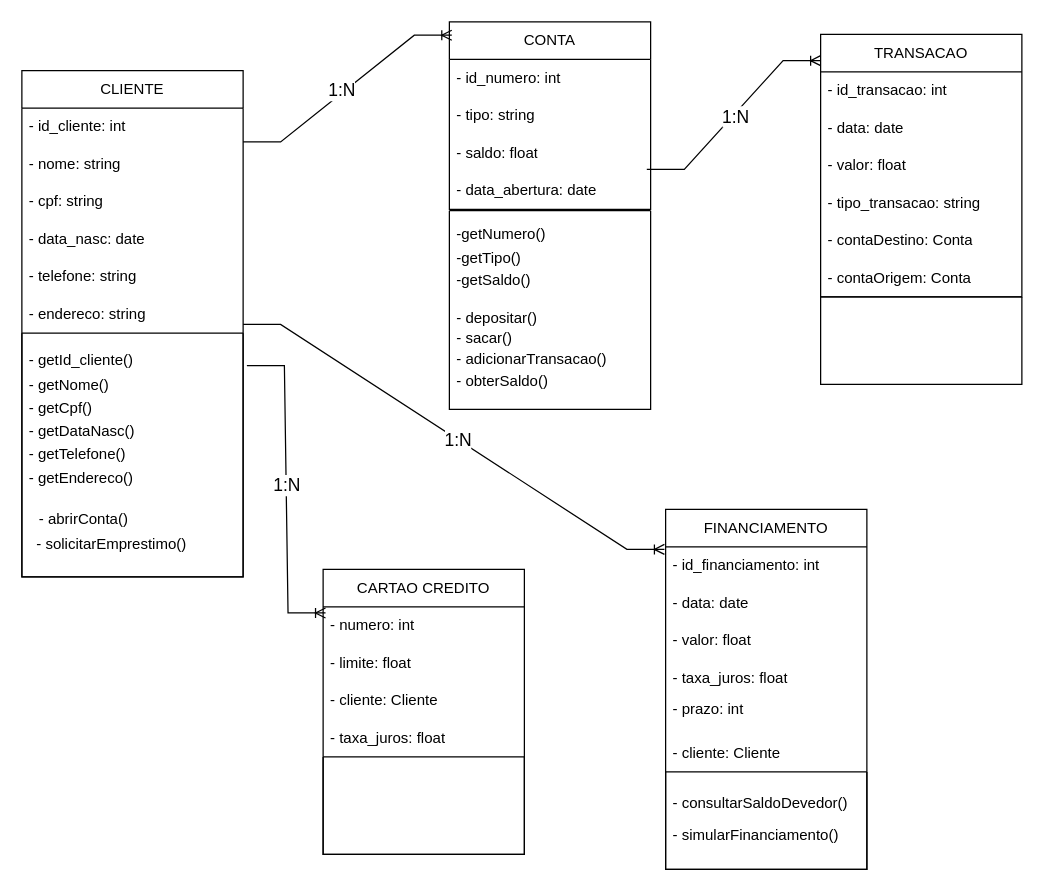
The diagram is 1044 pixels wide and 891 high, and some of its shapes have lost their labels. Here are the shapes that lost their labels. From the top down, the centre of each, then its label:
At pixel 920 340: "- consultarTransacao()".
At pixel 423 805: "- consultarLimite()".
